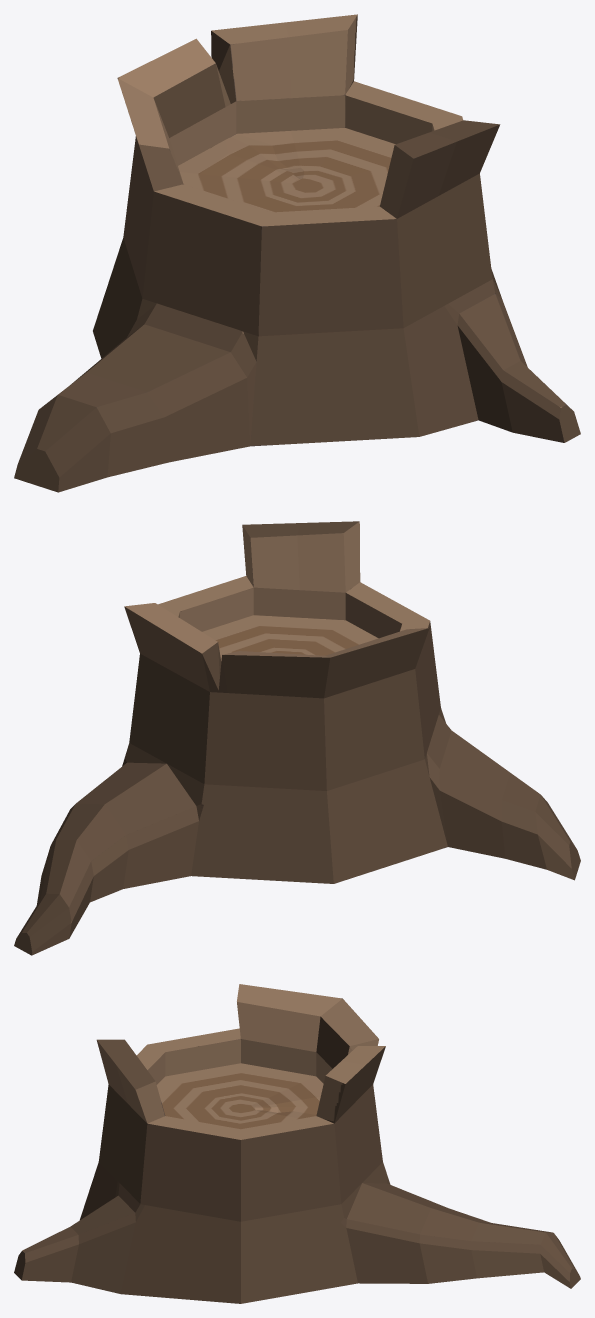
The model's file is stump.obj.
3 renders of one model, top to bottom at view 1: azimuth 30°, elevation 25°; view 2: azimuth 150°, elevation 25°; view 3: azimuth 270°, elevation 25°, orthographic. The views are drawn at different scales.
Parts seen in each view (by area): view 1: Circle, Circle.001; view 2: Circle, Circle.001; view 3: Circle, Circle.001.
Part boxes in pixels (x1=…): Circle: x1=14, y1=14, x2=580, y2=492; Circle.001: x1=178, y1=128, x2=395, y2=212; Circle: x1=14, y1=521, x2=580, y2=955; Circle.001: x1=202, y1=615, x2=378, y2=660; Circle: x1=14, y1=984, x2=580, y2=1303; Circle.001: x1=156, y1=1063, x2=323, y2=1129.
Bounding box in the file's own units: 1.67 × 0.9123 × 2.15.
